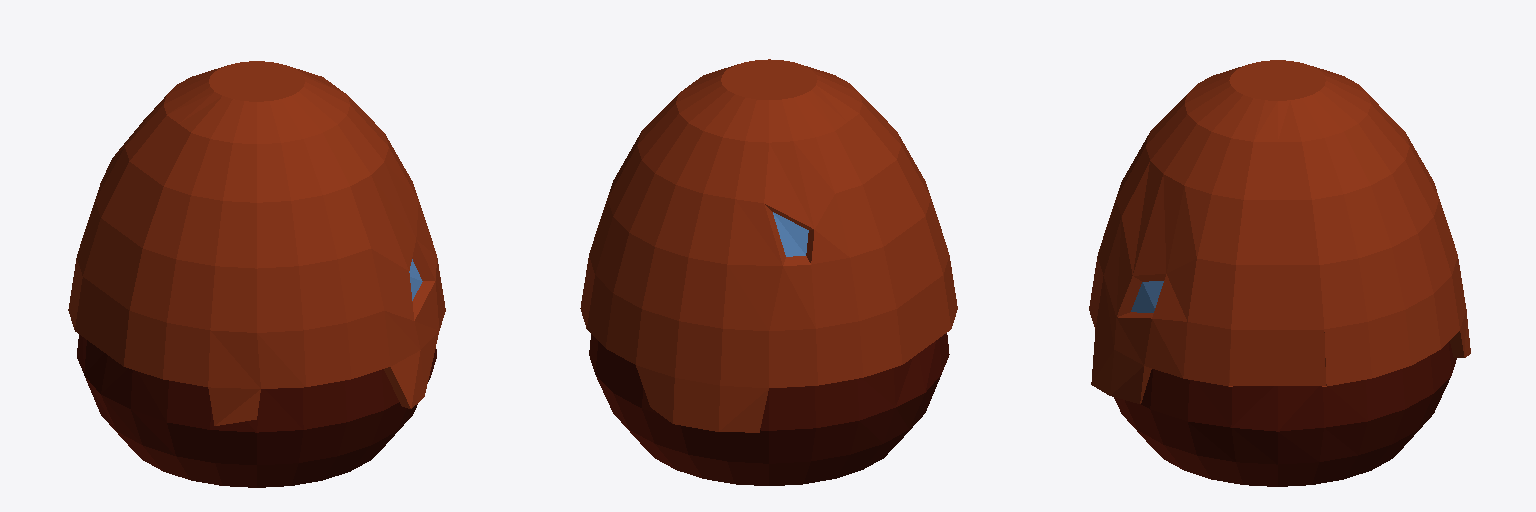
The model's file is character_monster.obj.
3 renders of one model, left to right at view 1: azimuth 30°, elevation 25°; view 2: azimuth 150°, elevation 25°; view 3: azimuth 270°, elevation 25°, orthographic.
Parts seen in each view (by area): view 1: character_monster_Cube.045; view 2: character_monster_Cube.045; view 3: character_monster_Cube.045.
Boxes of the visible parts, x1=… form: character_monster_Cube.045: x1=68, y1=61, x2=445, y2=487; character_monster_Cube.045: x1=580, y1=59, x2=957, y2=485; character_monster_Cube.045: x1=1089, y1=60, x2=1470, y2=486.
Bounding box in the file's own units: 0.6838 × 0.7256 × 0.7164.